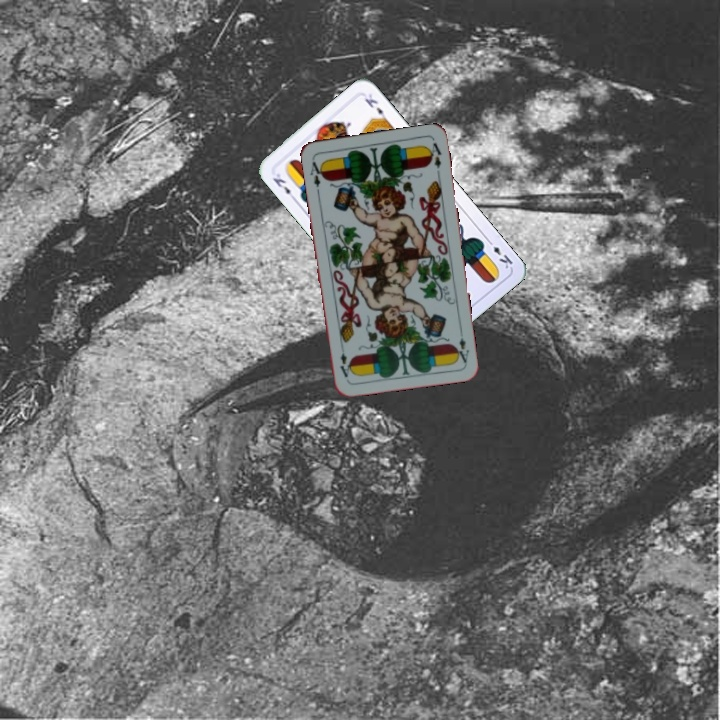EA: (306, 155, 327, 195), (452, 334, 472, 365)
EK: (483, 235, 516, 271), (268, 169, 299, 203)
